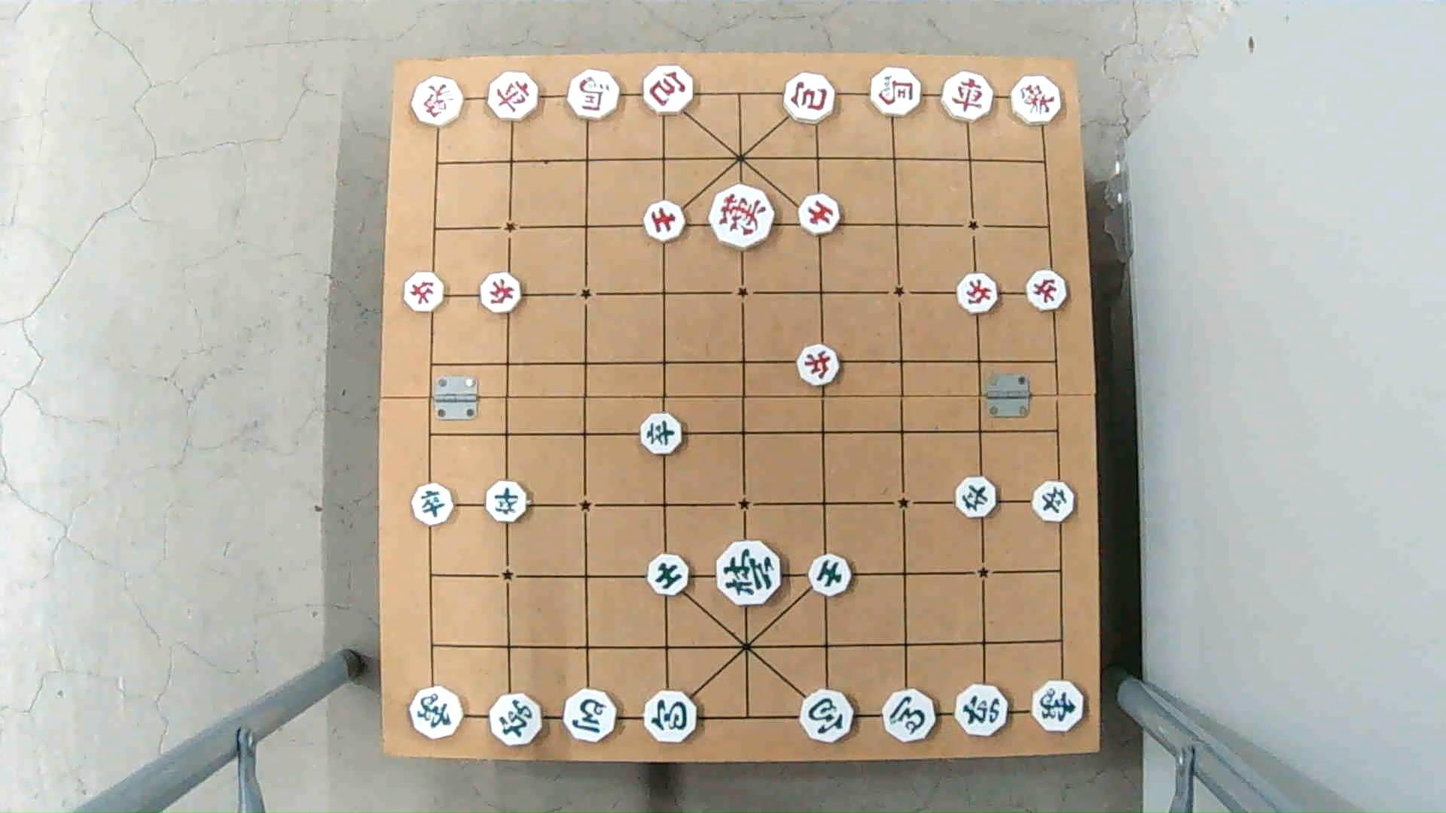cha_green: (950, 688, 1010, 736), (488, 696, 545, 745)
cha_red: (939, 75, 997, 120), (485, 75, 542, 120)
jol_green: (637, 418, 687, 455), (484, 483, 532, 521), (952, 479, 999, 516), (410, 487, 457, 524), (1030, 485, 1078, 521)
jol_red: (795, 349, 844, 385), (953, 275, 1002, 311), (1024, 275, 1071, 311), (399, 275, 447, 310), (478, 276, 526, 310)
ma_green: (564, 693, 624, 741), (885, 693, 944, 741)
ma_red: (563, 71, 624, 116), (867, 71, 926, 114)
po_green: (642, 693, 701, 742), (798, 693, 858, 741)
po_red: (641, 69, 700, 114), (781, 78, 840, 121)
sa_green: (644, 554, 692, 592), (807, 555, 856, 592)
sa_red: (796, 193, 841, 233), (645, 200, 685, 240)
sang_green: (1027, 683, 1085, 732), (411, 688, 468, 737)
sang_red: (410, 79, 469, 123), (1006, 78, 1063, 123)
wang_green: (716, 544, 786, 606)
wang_red: (705, 187, 774, 248)
